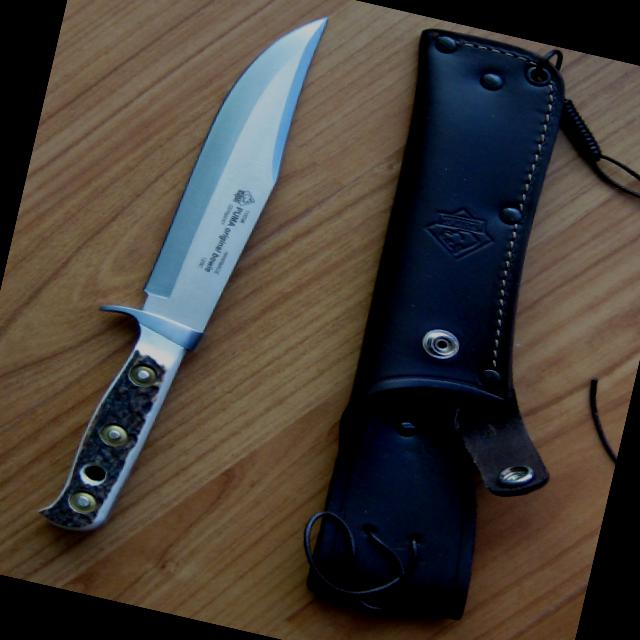knife: (82, 0, 344, 369)
